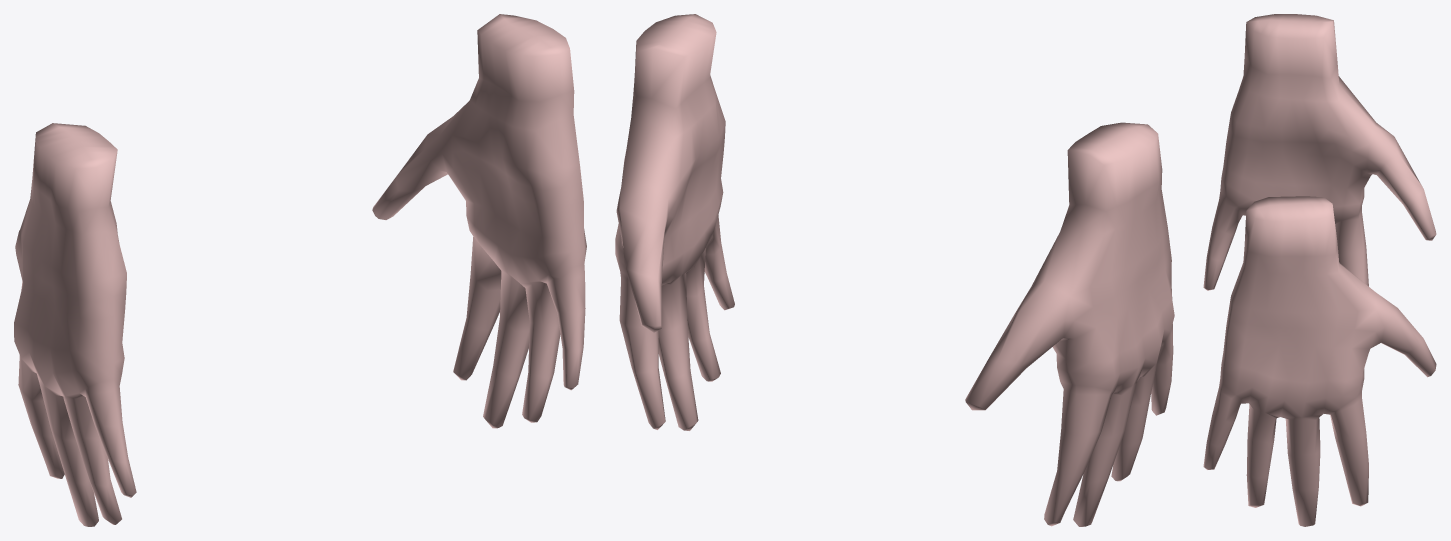
File: hands.fbx
3 renders of one model, left to right at view 1: azimuth 30°, elevation 25°; view 2: azimuth 150°, elevation 25°; view 3: azimuth 270°, elevation 25°, orthographic. The views are drawn at different scales.
Parts seen in each view (by area): view 1: RightHand, LeftHand; view 2: LeftHand, RightHand; view 3: RightHand, LeftHand.
Part boxes in pixels (x1,y1,x2,y2): RightHand: (372, 14, 586, 428); LeftHand: (14, 123, 136, 526); LeftHand: (965, 122, 1174, 526); RightHand: (615, 14, 734, 430); RightHand: (1203, 196, 1436, 526); LeftHand: (1203, 14, 1436, 290).
Bounding box in the file's own units: 28.46 × 20.92 × 13.31.
